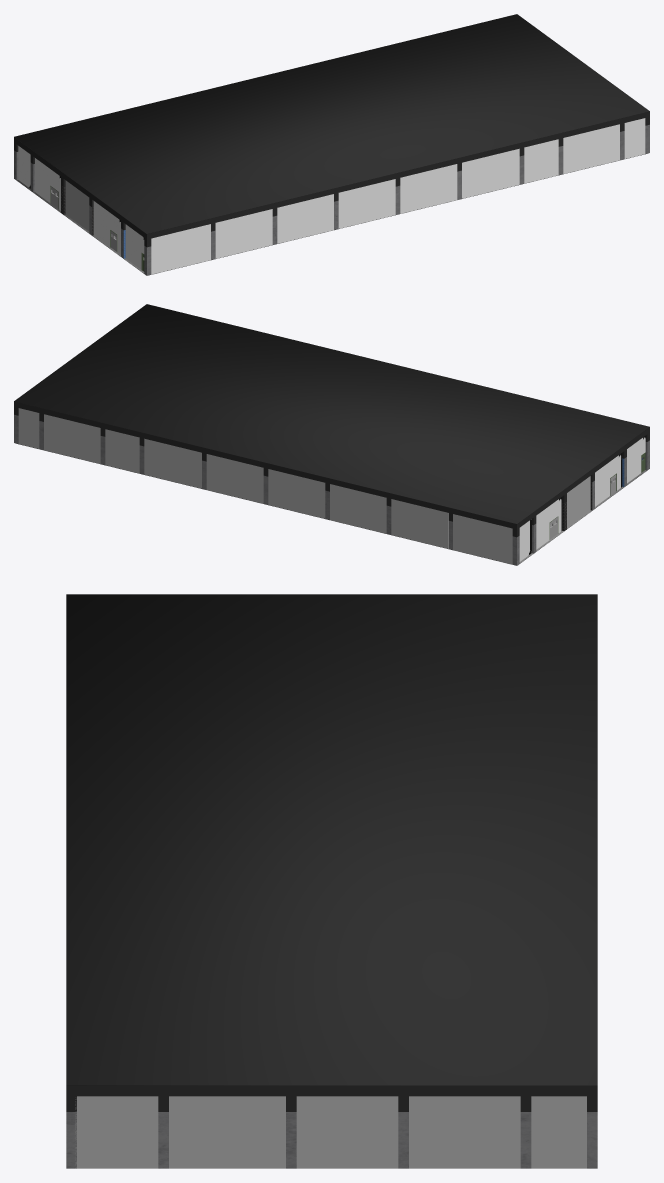
The model's file is jieGou.glb.
The picture shows the model from 3 angles, top to bottom: view 1: azimuth 30°, elevation 25°; view 2: azimuth 150°, elevation 25°; view 3: azimuth 270°, elevation 25°; orthographic projection. The views are drawn at different scales.
Parts seen in each view (by area): view 1: jieGou; view 2: jieGou; view 3: jieGou.
Part boxes in pixels (x1,y1,x2,y2): jieGou: (14, 14, 649, 275); jieGou: (14, 304, 649, 565); jieGou: (66, 594, 597, 1168).
Bounding box in the file's own units: 65.6 × 5.22 × 30.
8 materials, 5 textured.
